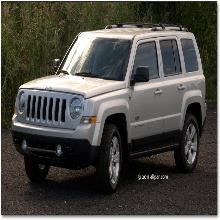no damage: (11, 23, 209, 192)
